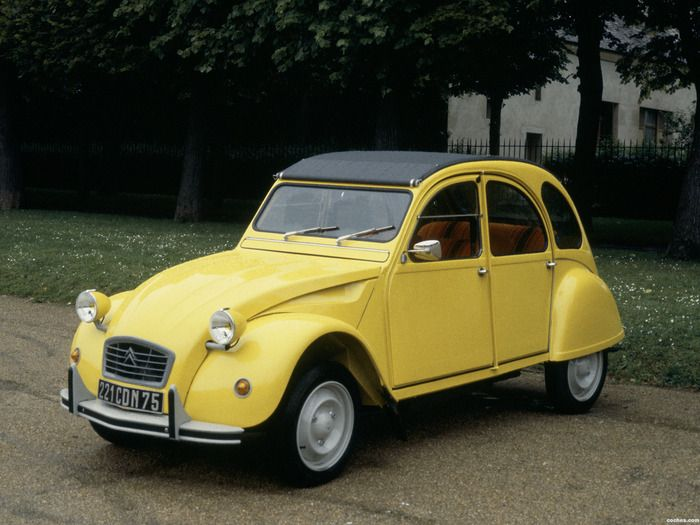car: (35, 138, 645, 472)
